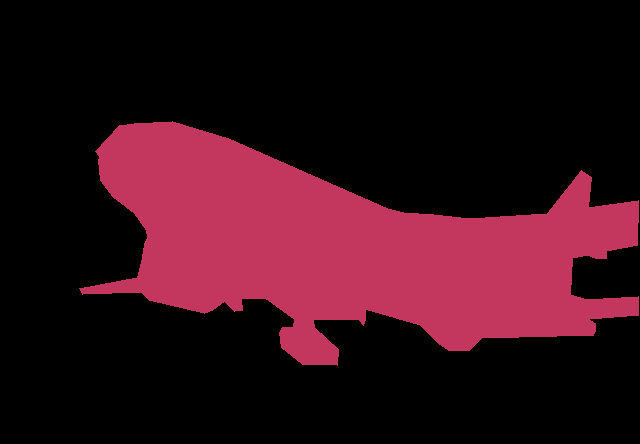Airplane: (79, 121, 638, 365)
